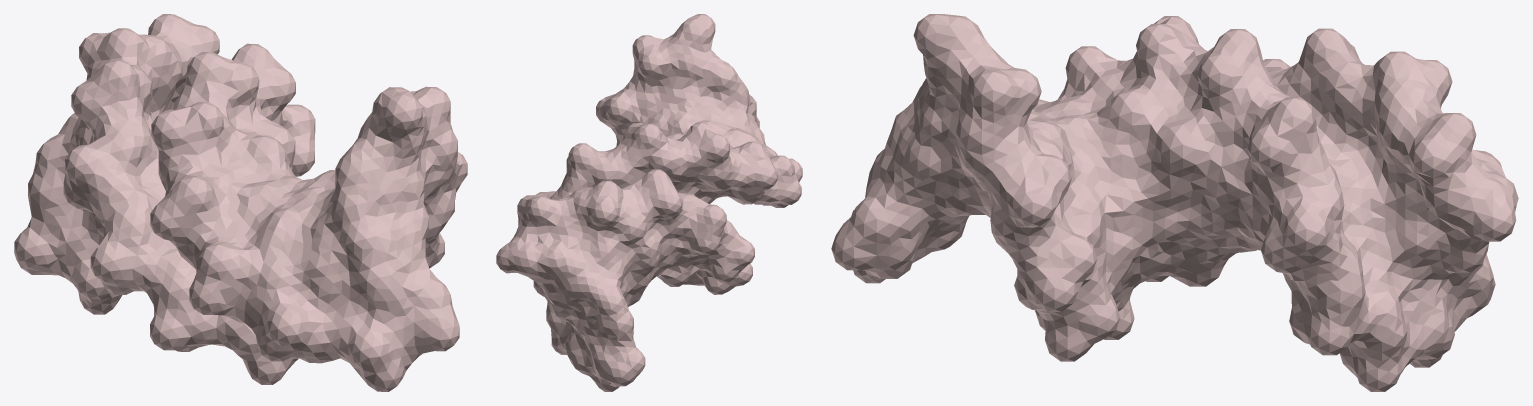
Rendered from 1bna__surface__b-factor.glb.
3 renders of one model, left to right at view 1: azimuth 30°, elevation 25°; view 2: azimuth 150°, elevation 25°; view 3: azimuth 270°, elevation 25°, orthographic. The views are drawn at different scales.
Parts seen in each view (by area): view 1: Renderer Node; view 2: Renderer Node; view 3: Renderer Node.
Part boxes in pixels (x1=…): Renderer Node: x1=14, y1=14, x2=467, y2=391; Renderer Node: x1=496, y1=14, x2=802, y2=391; Renderer Node: x1=831, y1=14, x2=1518, y2=391.
Bounding box in the file's own units: 25.52 × 29.2 × 45.68.
